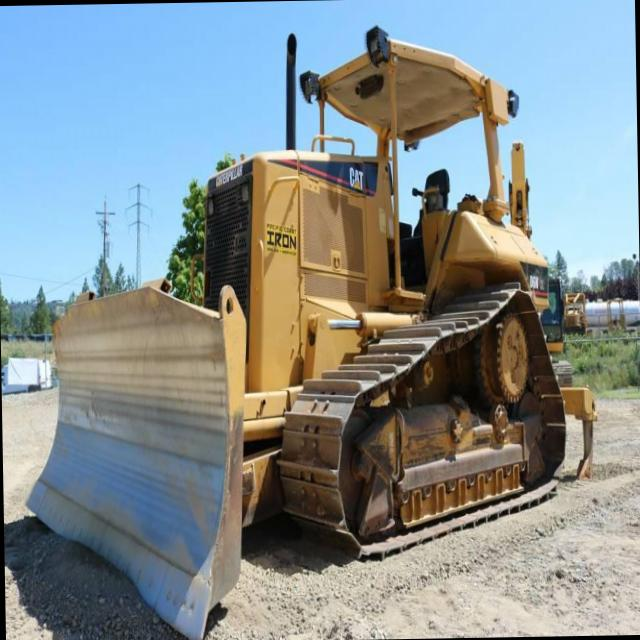Bulldozer: (13, 14, 603, 640)
